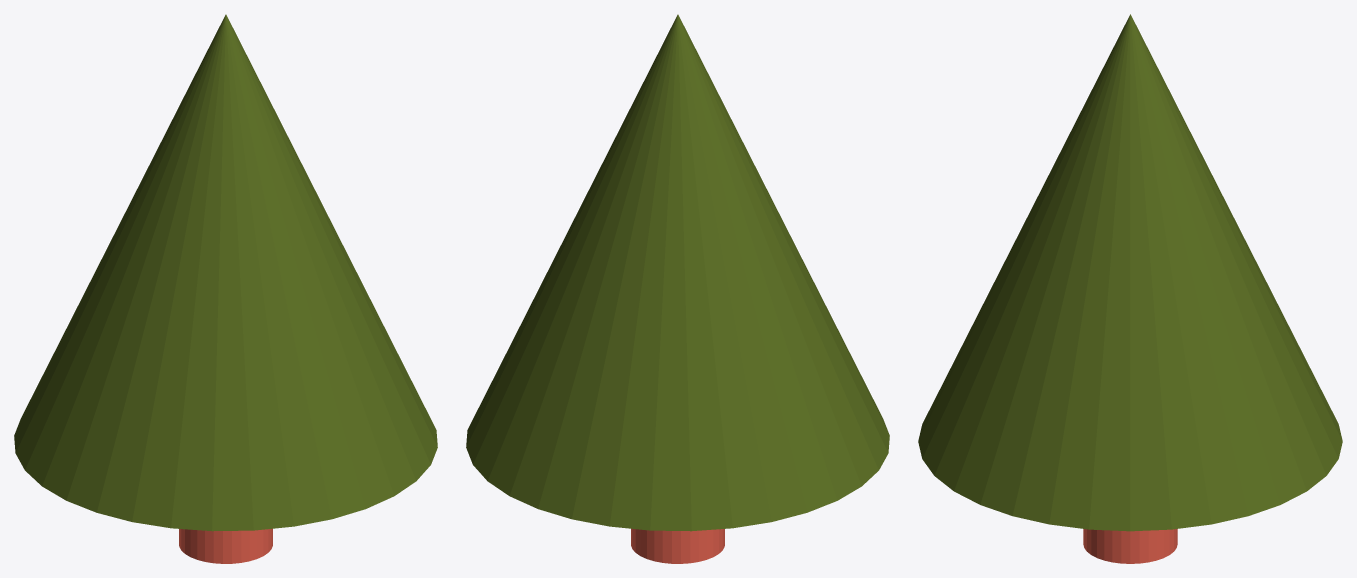
Rendered from tree1.obj.
3 views of the same model, side by side, from view 1: azimuth 30°, elevation 25°; view 2: azimuth 150°, elevation 25°; view 3: azimuth 270°, elevation 25° (orthographic).
Parts seen in each view (by area): view 1: Cone, Cylinder; view 2: Cone, Cylinder; view 3: Cone, Cylinder.
Part boxes in pixels (x1,y1,x2,y2): Cone: (14, 14, 437, 531); Cylinder: (179, 528, 272, 563); Cone: (466, 14, 889, 531); Cylinder: (631, 528, 724, 563); Cone: (918, 14, 1342, 531); Cylinder: (1083, 529, 1177, 563).
Bounding box in the file's own units: 1.8 × 2.48 × 1.8.
